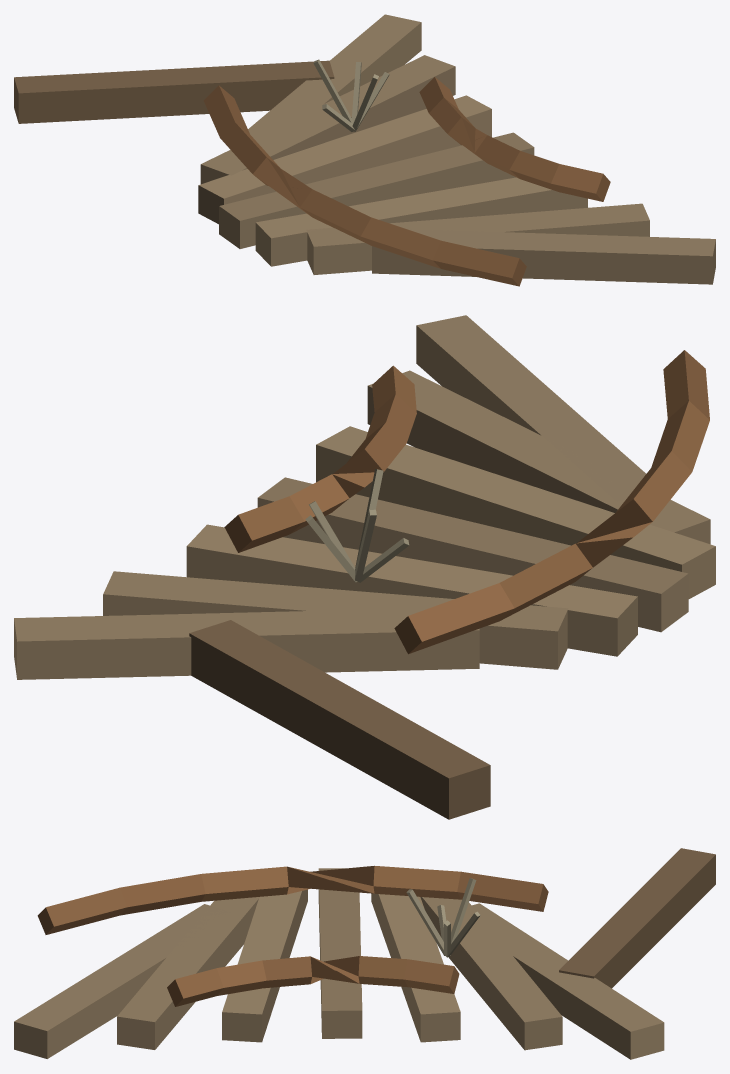
The model's file is broken-track.glb.
3 renders of one model, top to bottom at view 1: azimuth 30°, elevation 25°; view 2: azimuth 150°, elevation 25°; view 3: azimuth 270°, elevation 25°, orthographic. The views are drawn at different scales.
Parts seen in each view (by area): view 1: broken-track; view 2: broken-track; view 3: broken-track.
Part boxes in pixels (x1,y1,x2,y2): broken-track: (14, 14, 715, 286); broken-track: (14, 315, 715, 819); broken-track: (14, 848, 715, 1059).
Bounding box in the file's own units: 1.81 × 0.4388 × 2.96.
